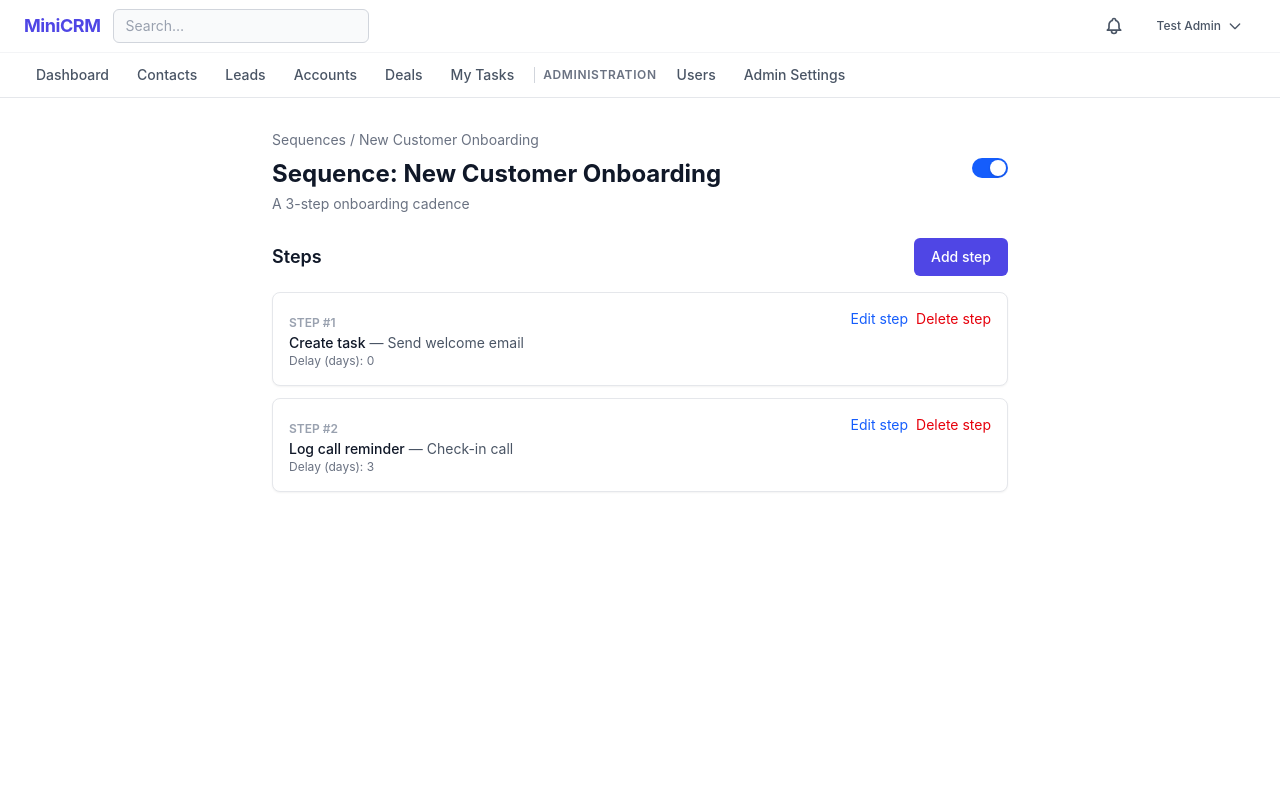
Test: SequenceDetailPage › shows the add step form when Add Step is clicked
The width and height of the screenshot is (1280, 800).
Click the button with test id "add-step-button". click: (961, 257)
box: [914,238,1008,276]
(page scrolled)
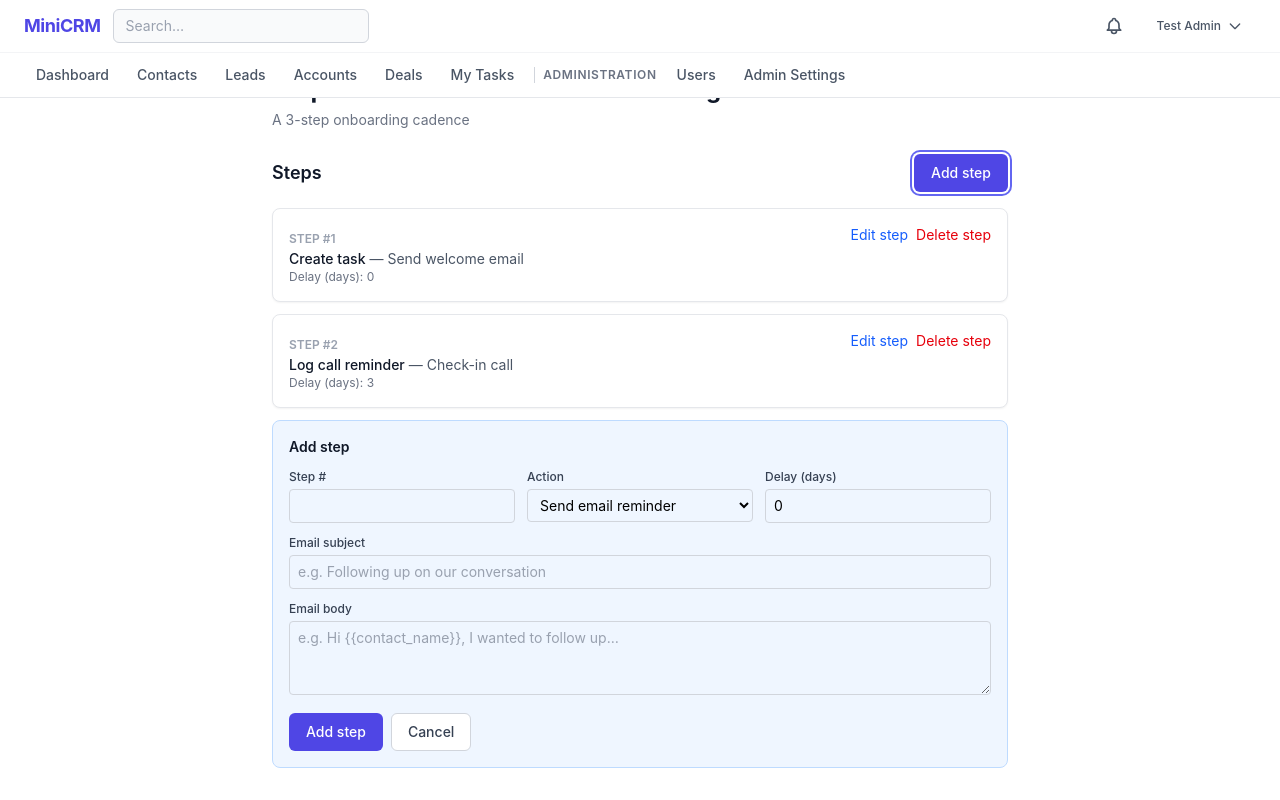
Expected: the form with test id "add-step-form" is shown, [272,420,1008,768]
